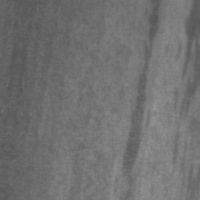inclusion: (117, 0, 166, 184), (172, 4, 199, 120), (167, 113, 199, 194)
